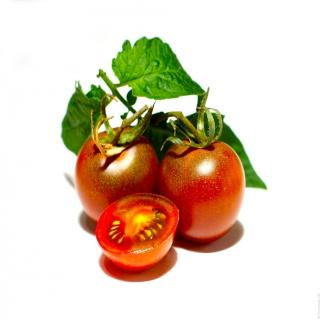tomato: (159, 89, 247, 244), (71, 94, 157, 224), (94, 190, 179, 272)
